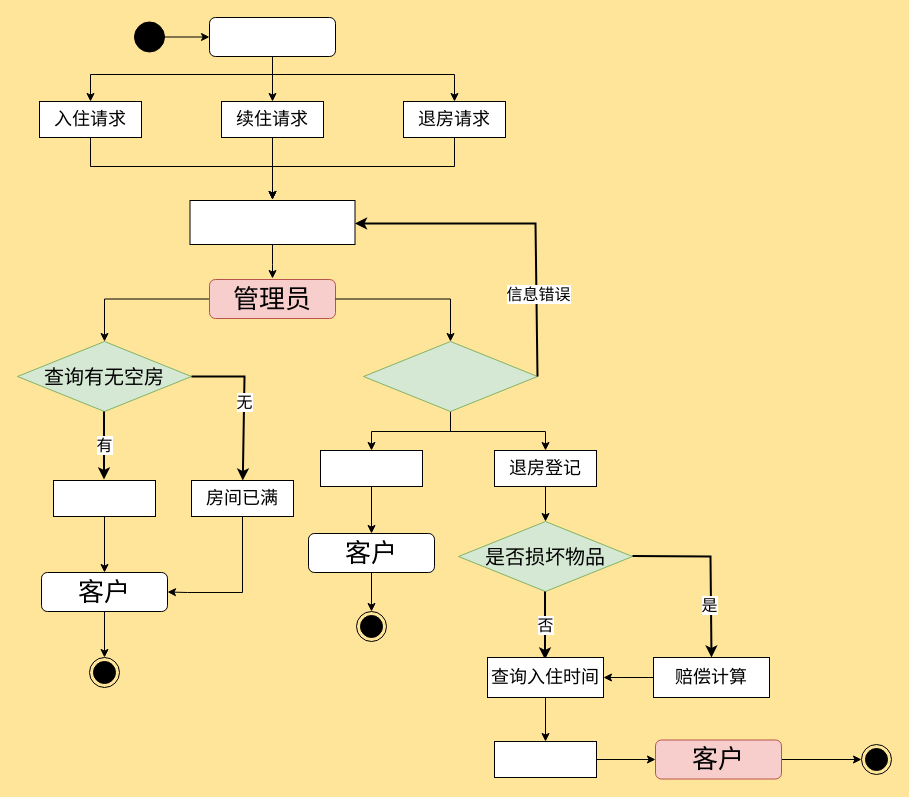
The diagram is 909 pixels wide and 797 high, and some of its shapes have lost their labels. The centre of each missing label's shape, as x and y in pixels:
"入住登记" belongs at point (104, 498).
"客户请求" belongs at point (272, 36).
"确认房间信息" belongs at point (450, 376).
"结算花费" belongs at point (545, 759).
"续房登记" belongs at point (371, 468).
"输入请求相关信息" belongs at point (272, 222).
